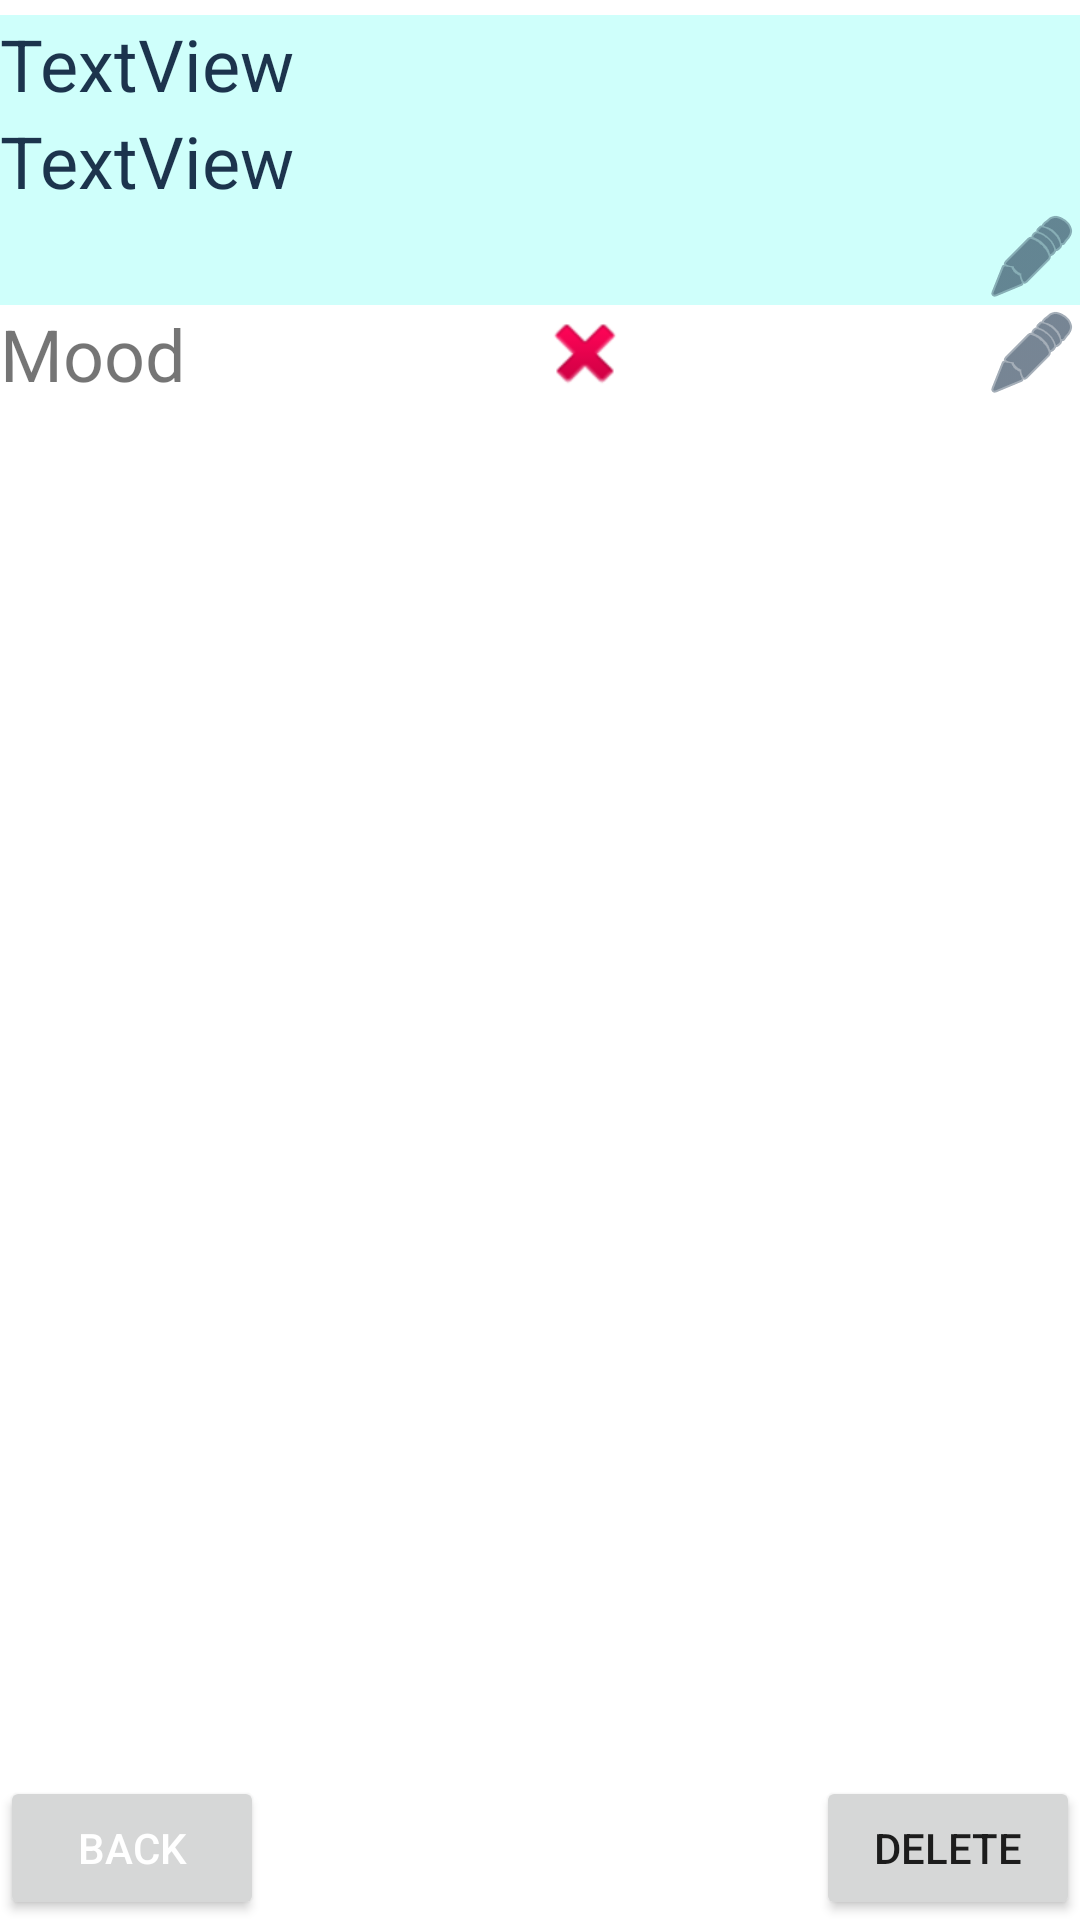

Where to tap for icons on this 1080w x 1920h app screen, as [x,y]:
delete: [585,353]
edit: [1031,256], [1031,352]
